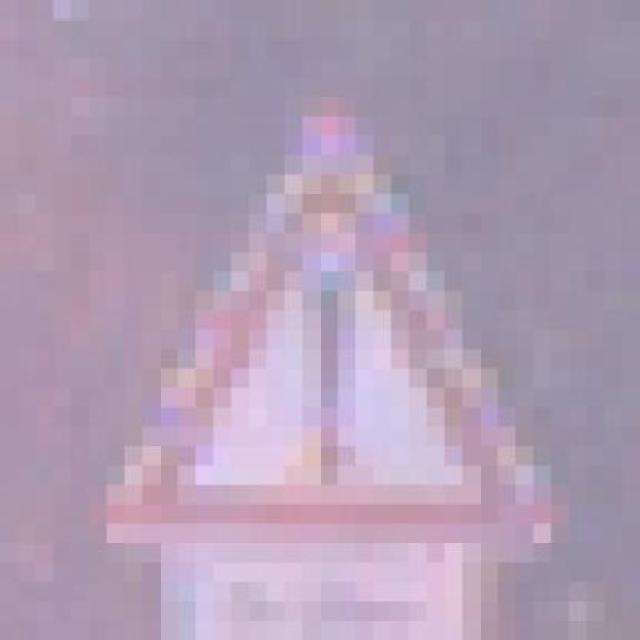Attention Please-: (53, 78, 569, 582)
